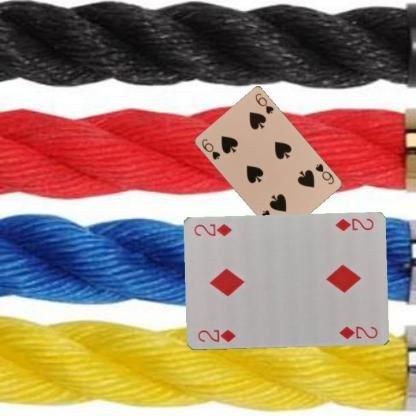2d: (195, 327, 237, 344), (332, 216, 375, 232)
6s: (312, 160, 335, 186), (199, 136, 221, 162)
